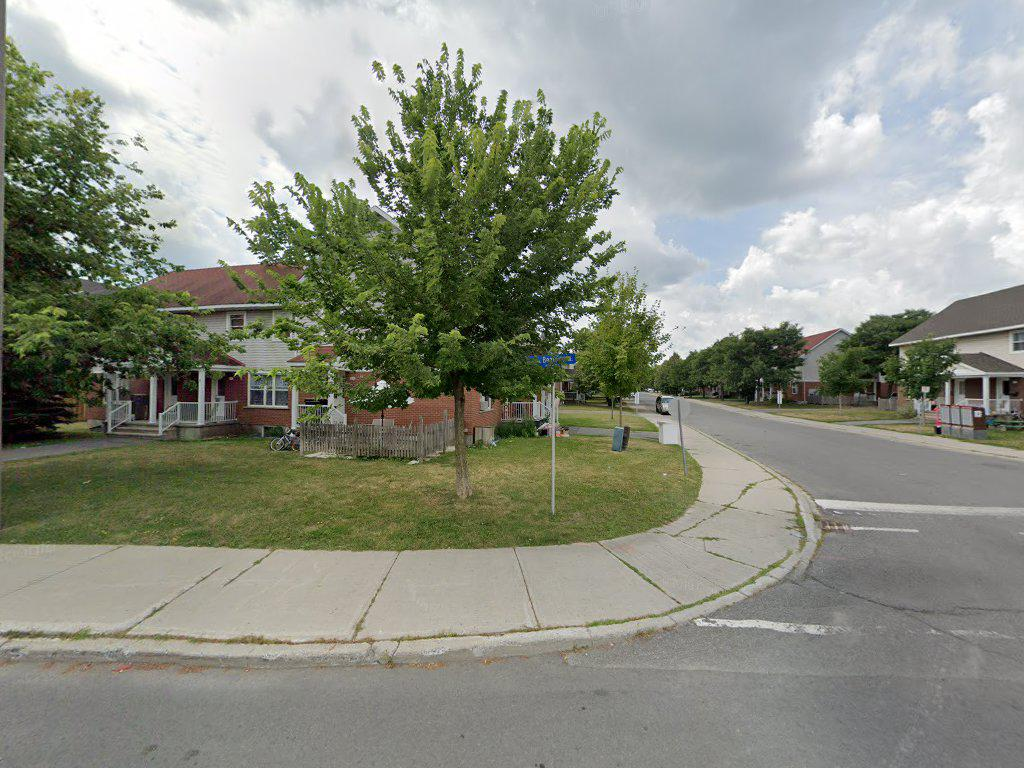trunk: (444, 370, 479, 514)
